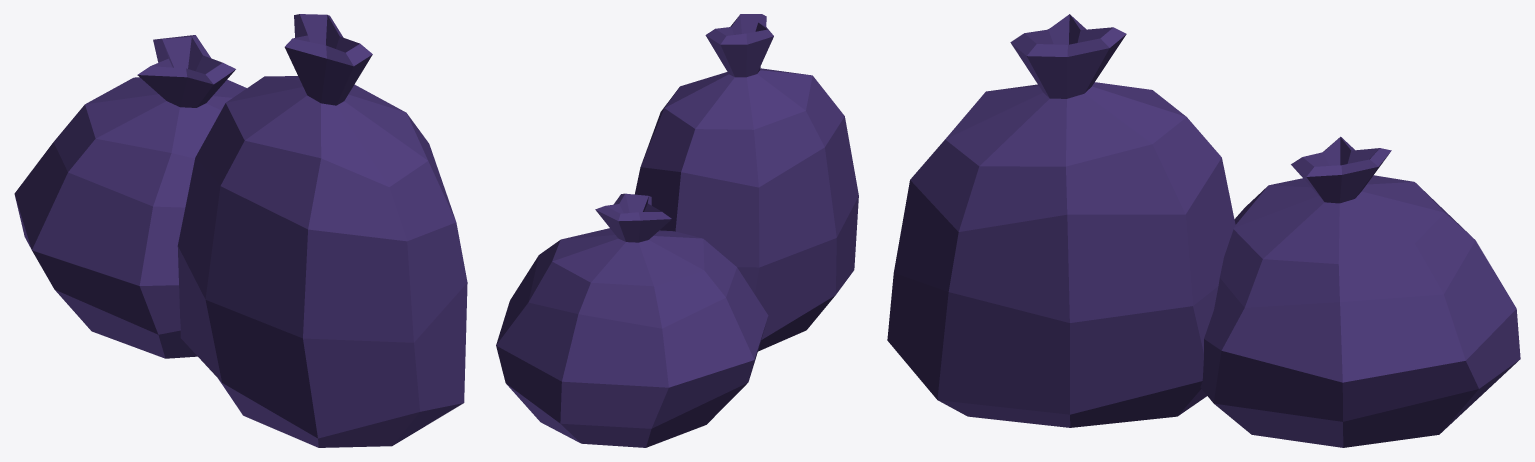
Rendered from trash.fbx.
3 renders of one model, left to right at view 1: azimuth 30°, elevation 25°; view 2: azimuth 150°, elevation 25°; view 3: azimuth 270°, elevation 25°, orthographic. The views are drawn at different scales.
Parts seen in each view (by area): view 1: SM_Prop_TrashBag_01, SM_Prop_TrashBag_02; view 2: SM_Prop_TrashBag_02, SM_Prop_TrashBag_01; view 3: SM_Prop_TrashBag_01, SM_Prop_TrashBag_02.
Part boxes in pixels (x1,y1,x2,y2): SM_Prop_TrashBag_01: [177, 14, 467, 447]; SM_Prop_TrashBag_02: [14, 35, 246, 358]; SM_Prop_TrashBag_02: [496, 193, 768, 447]; SM_Prop_TrashBag_01: [634, 14, 858, 351]; SM_Prop_TrashBag_01: [887, 14, 1235, 427]; SM_Prop_TrashBag_02: [1200, 136, 1520, 447].
Bounding box in the file's own units: 0.7932 × 0.9734 × 1.44.
